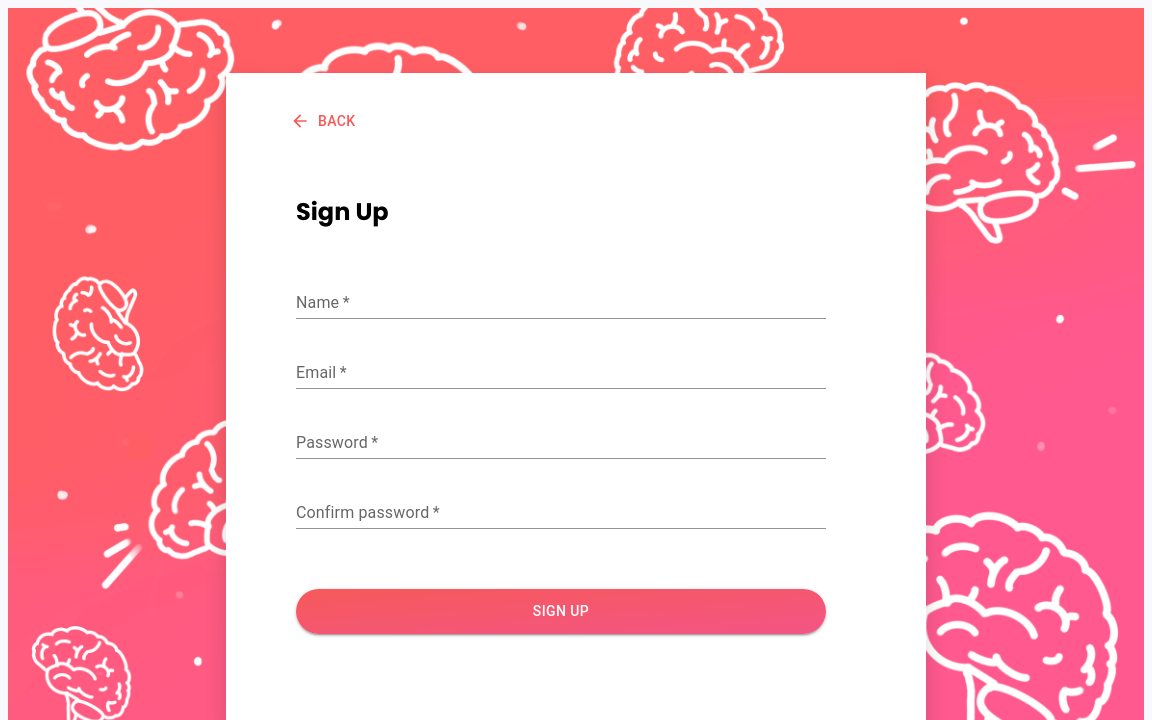
it: Component testing - Register › renders the error modal when password and confirm password do not match upson submission
Note: filling the name field
Type "Test" into the field with id "name".
click(561, 303); type("Test")  # box [296,287,826,319]
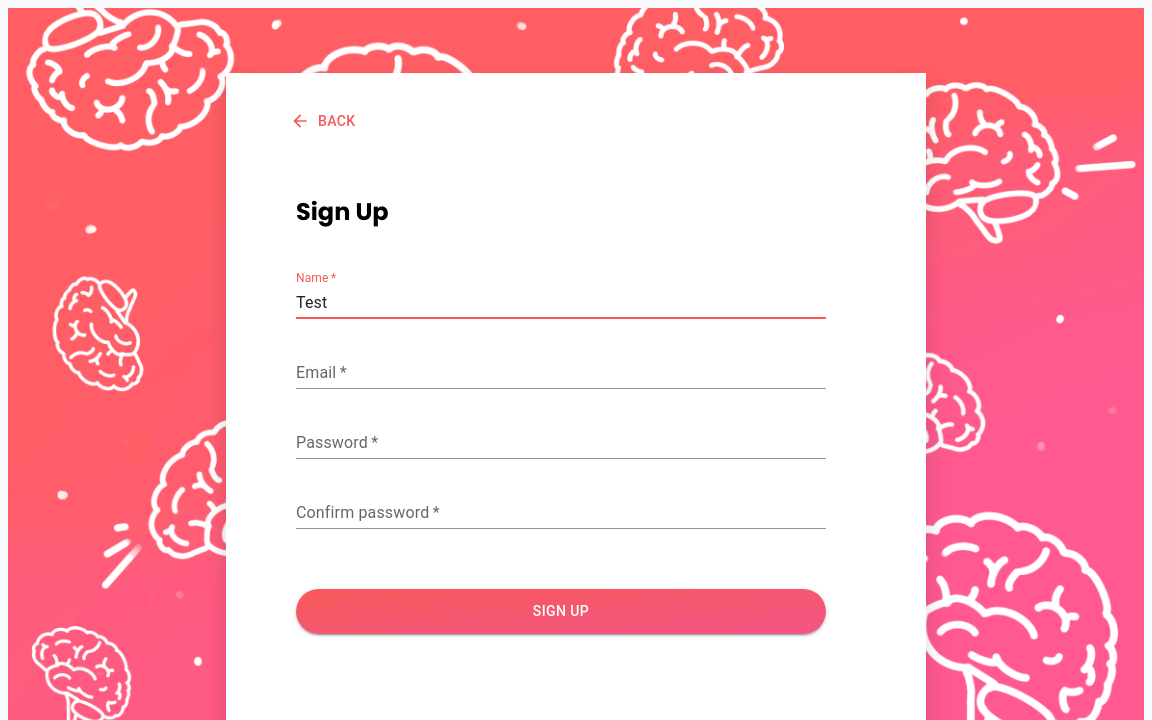
Note: filling the email field
Type "test5@email.com" into the field with id "email".
click(561, 373); type("test5@email.com")  # box [296,357,826,389]
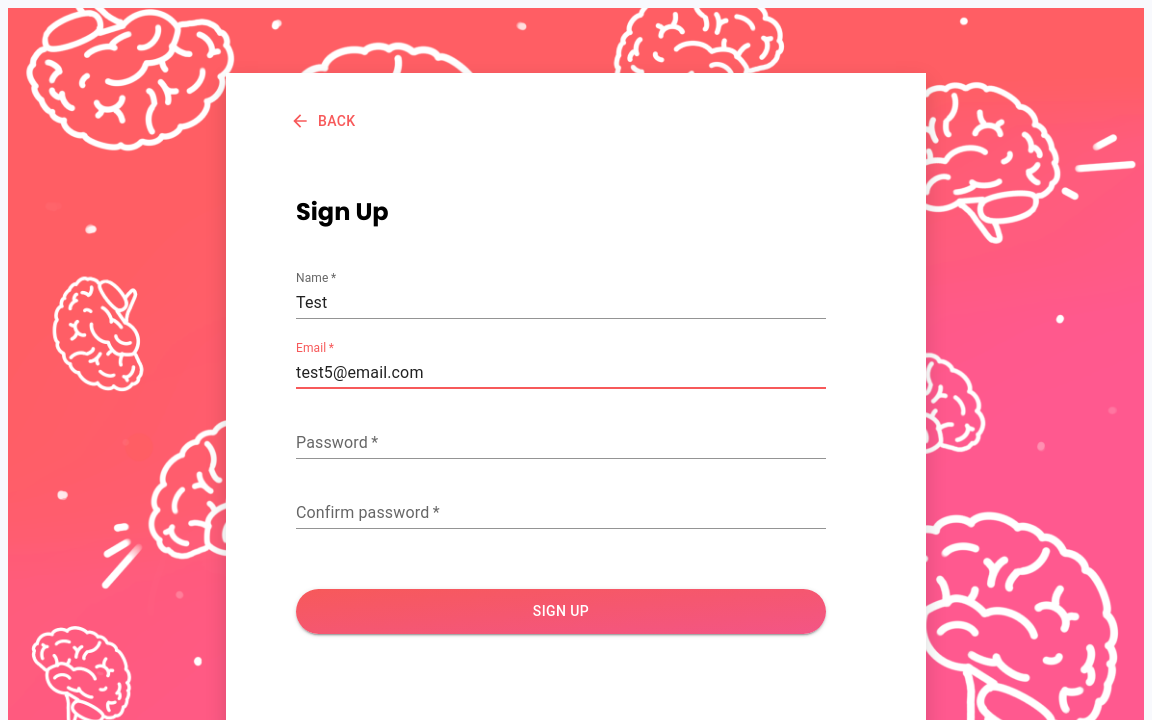
Note: filling the password and confrim password fiedl with unmatching passwords
Type "Test123!" into the password field labelled "Password *".
click(561, 443); type("Test123!")  # box [296,427,826,459]
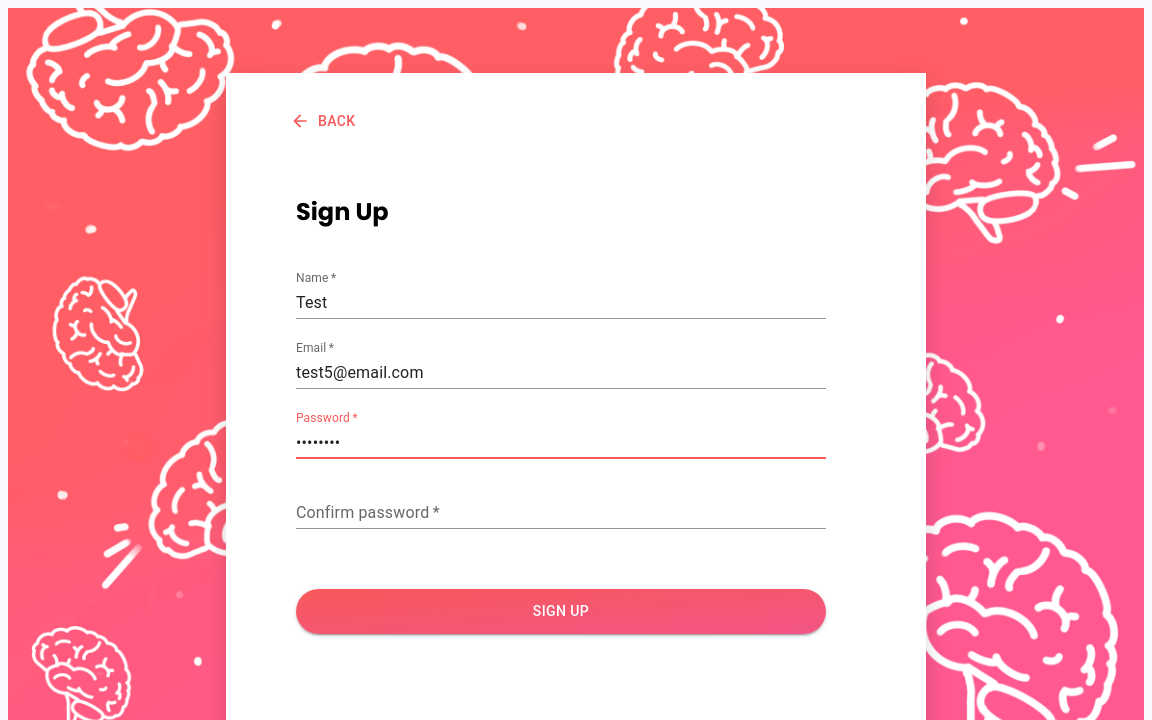
Type "Test124!" into the password field with id "confirmPassword".
click(561, 513); type("Test124!")  # box [296,497,826,529]
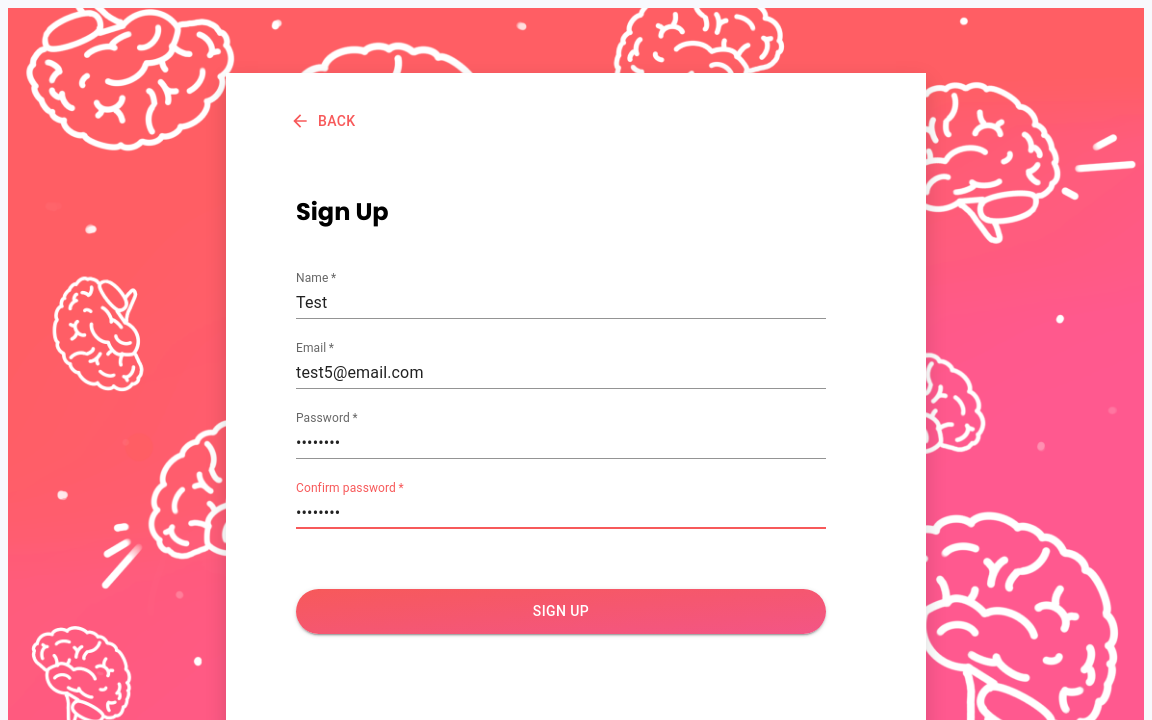
Note: attempting to submit the form
Click the button with id "signup".
click(561, 612)  # box [296,589,826,634]
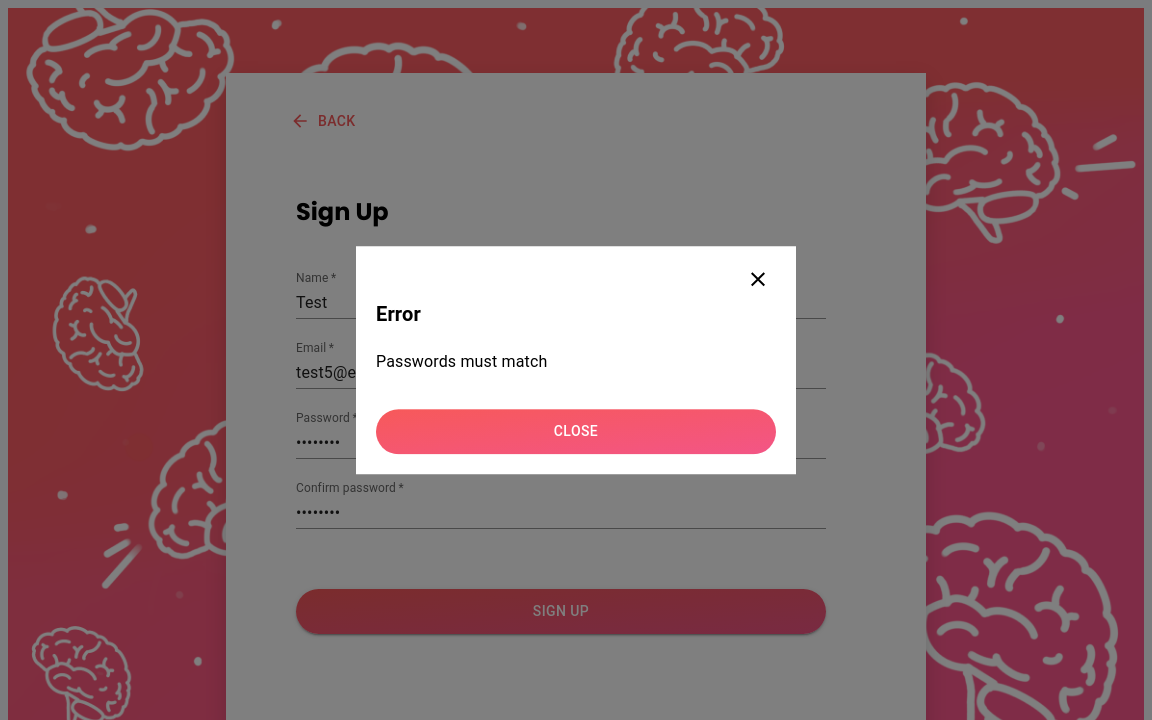
Expected: the heading "Error" is shown, [376,302,421,326]
Expected: the text with id "error-modal-description" reads "Passwords must match", [376,352,547,371]
